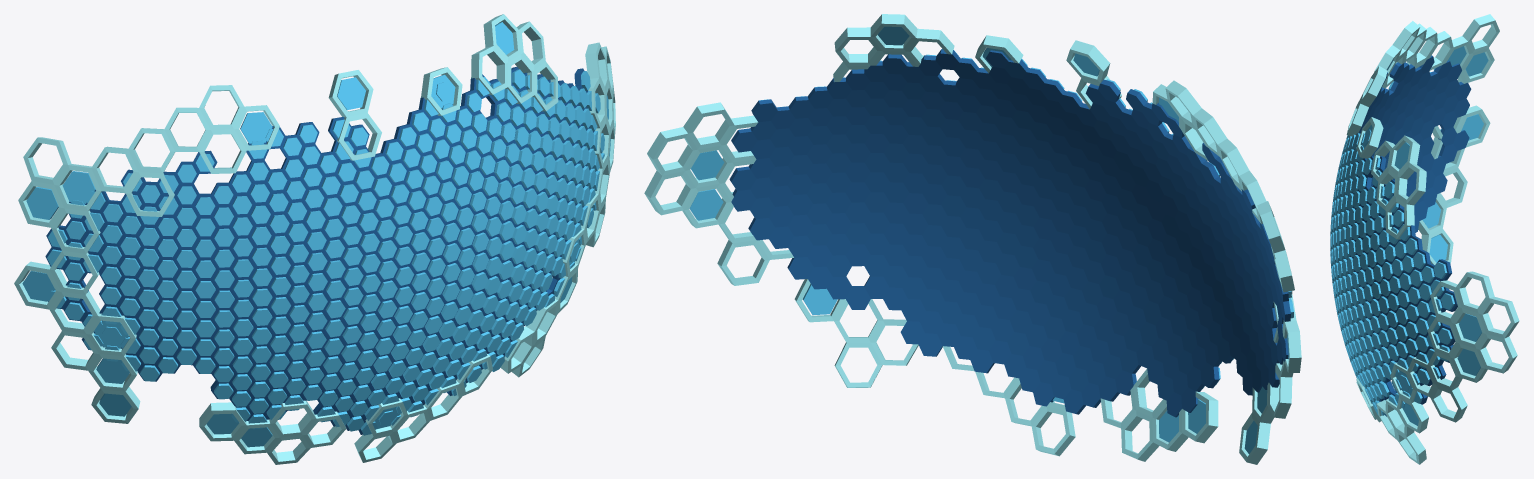
File: escudo_2_ovalado.glb
3 views of the same model, side by side, from view 1: azimuth 30°, elevation 25°; view 2: azimuth 150°, elevation 25°; view 3: azimuth 270°, elevation 25° (orthographic). The views are drawn at different scales.
Parts seen in each view (by area): view 1: escudo_2_ovalado; view 2: escudo_2_ovalado; view 3: escudo_2_ovalado.
Boxes of the visible parts, box(x1,y1,x2,y2) form: escudo_2_ovalado: box(14, 14, 615, 464); escudo_2_ovalado: box(644, 14, 1301, 464); escudo_2_ovalado: box(1330, 14, 1519, 464).
Size of the model in its own units: 6.22 by 3.85 by 1.94.
1 material, 1 textured.
